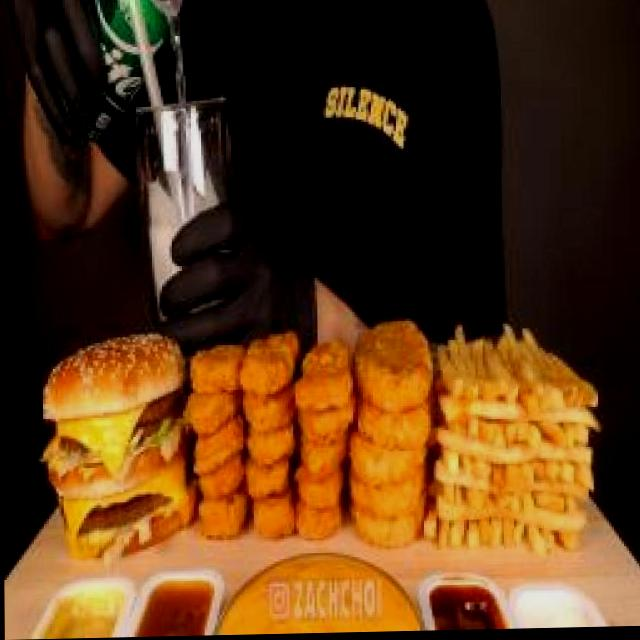Hashbrown: (350, 289, 446, 559)
burger: (42, 295, 198, 572)
french fries: (432, 314, 606, 572)
nugget: (182, 324, 356, 557)
sprite: (103, 0, 217, 173)
